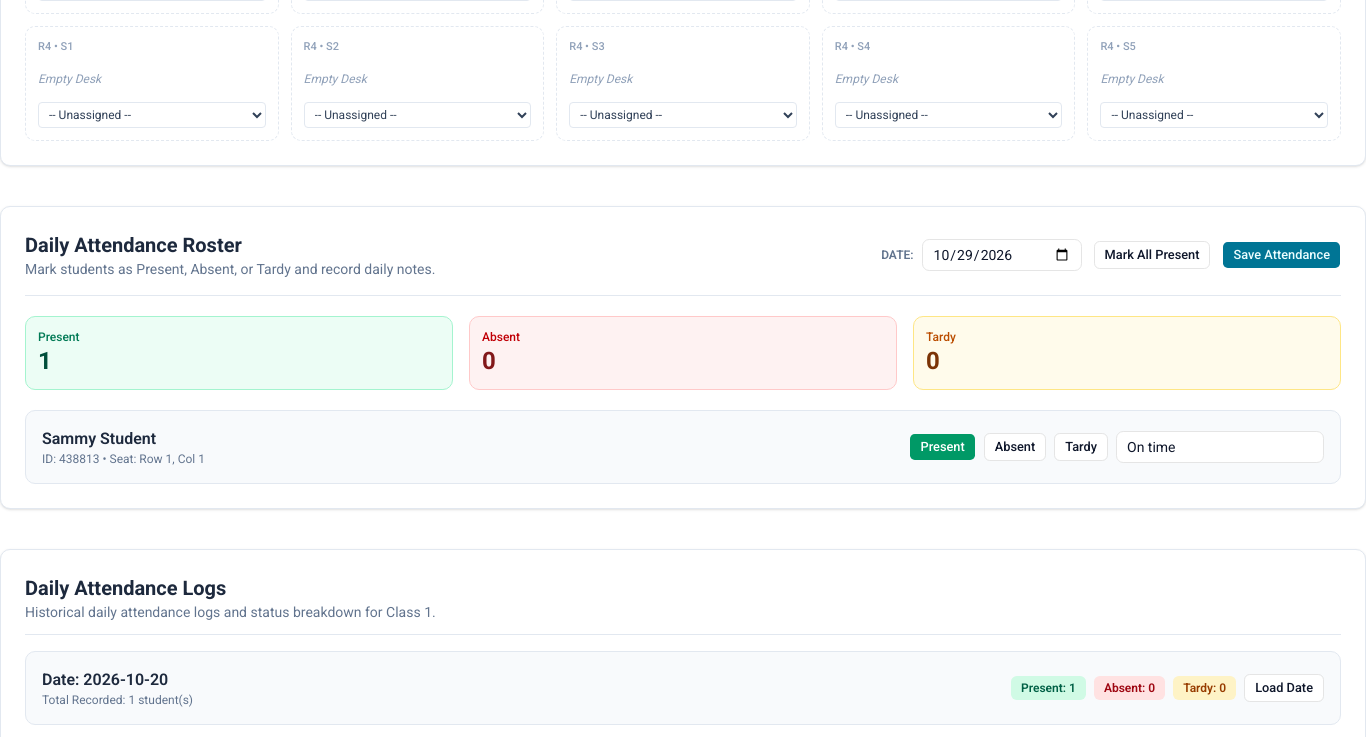
Test: ClassroomAttendanceManager › renders classroom seating arrangement, student attendance controls (present, absent, tardy), and daily logs for a teacher
(page scrolled)
Check: the heading "Daily Attendance Roster" is shown, box left=25, top=233, right=242, bottom=257
Check: the heading "Daily Attendance Logs" is shown, box left=25, top=576, right=226, bottom=600
Step 1. Click the button "Tardy" → click(1081, 447), box left=1054, top=433, right=1108, bottom=461
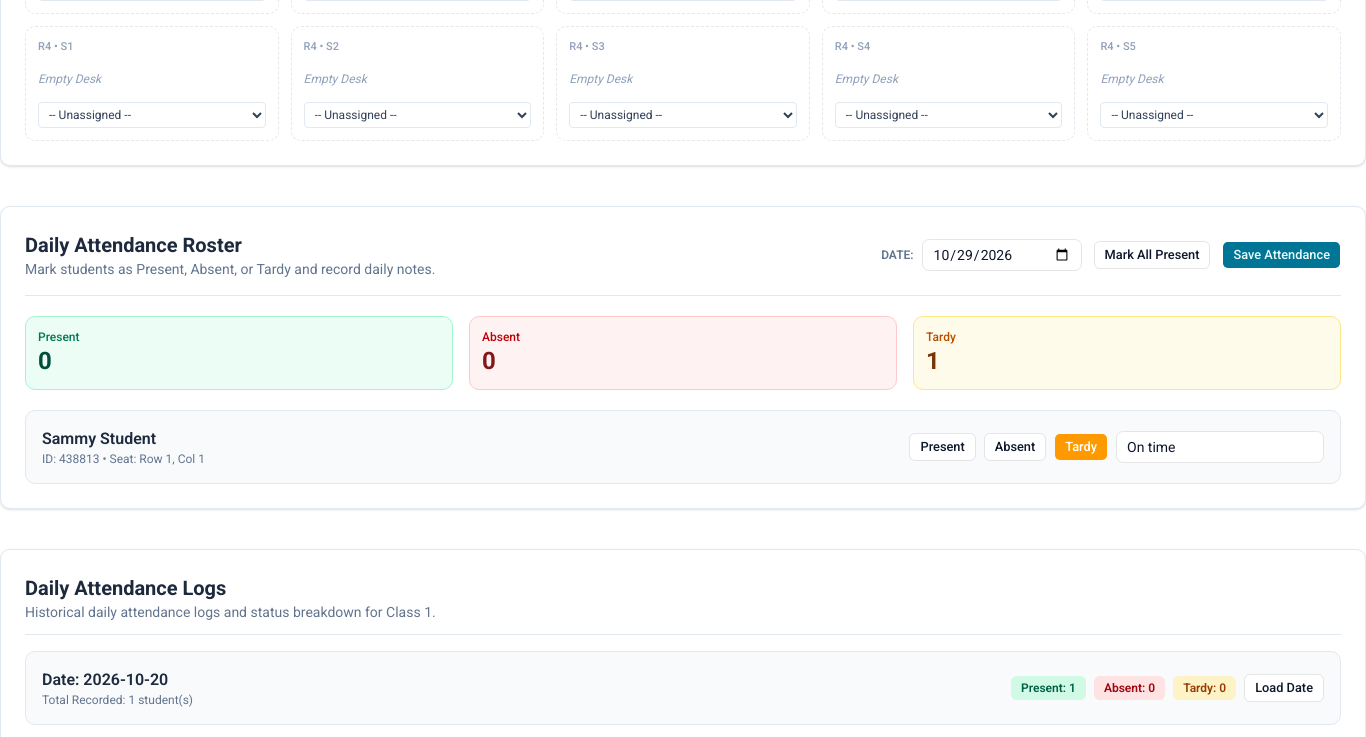
Step 2. Click the button "Save Attendance" → click(1282, 255), box left=1222, top=241, right=1341, bottom=269
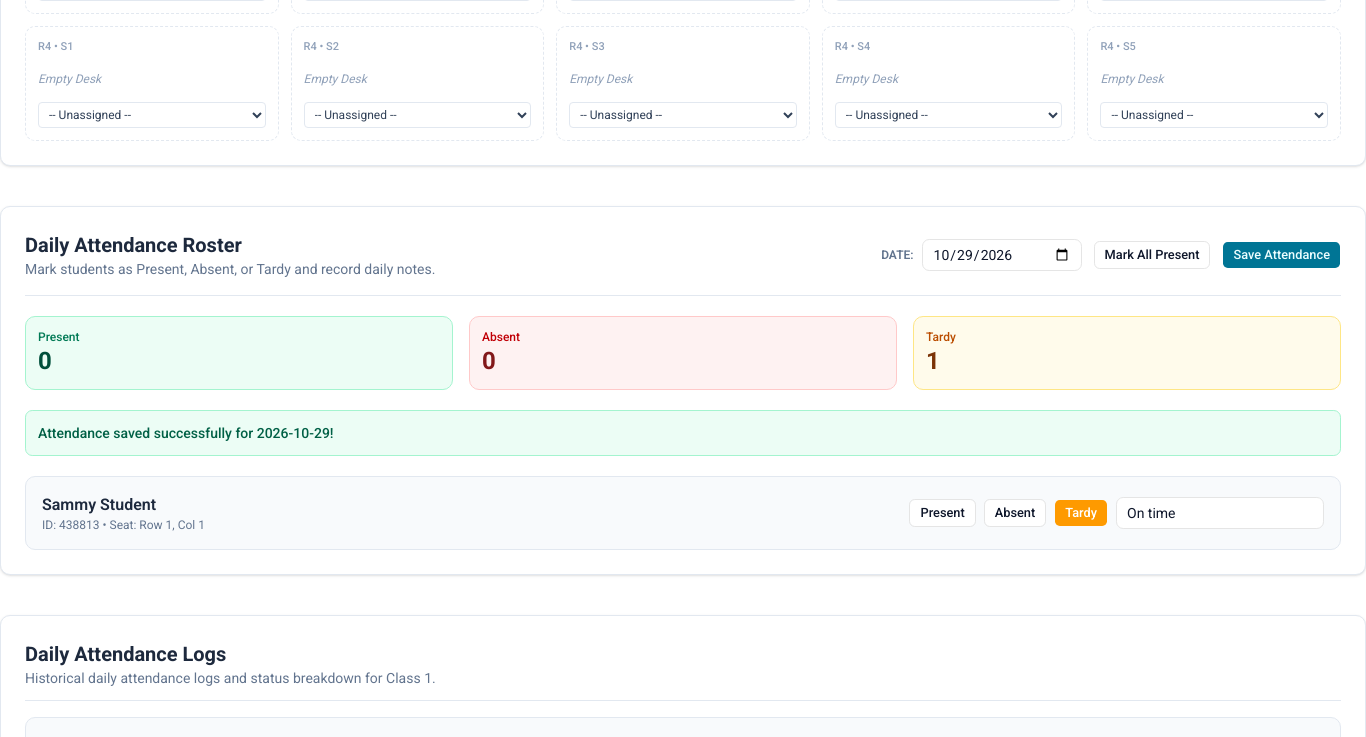
Check: the text "Attendance saved successfully for 2026-10-29!" is shown, box left=25, top=410, right=1341, bottom=456
